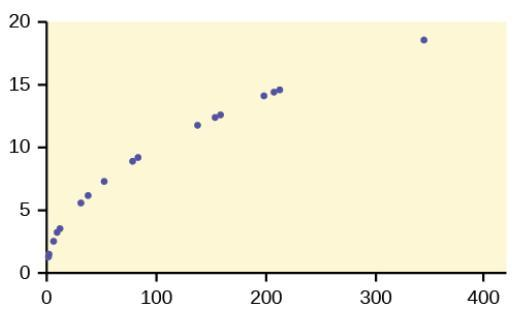axis: (35, 267, 509, 284), (36, 15, 54, 284)
point: (274, 82, 286, 97), (99, 175, 112, 188), (215, 107, 227, 121), (267, 87, 279, 100), (257, 91, 270, 102), (73, 198, 87, 208), (81, 191, 94, 201), (127, 156, 138, 167), (209, 113, 220, 123), (133, 152, 145, 161), (47, 237, 58, 246), (54, 223, 65, 232), (192, 120, 203, 129), (419, 35, 430, 44), (50, 229, 62, 237), (43, 249, 54, 257), (43, 254, 53, 262)
